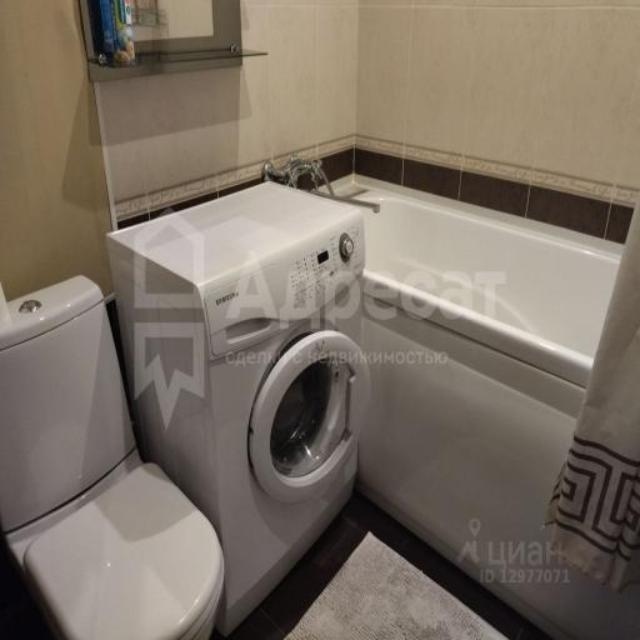Washing-Machine: (104, 182, 360, 636)
